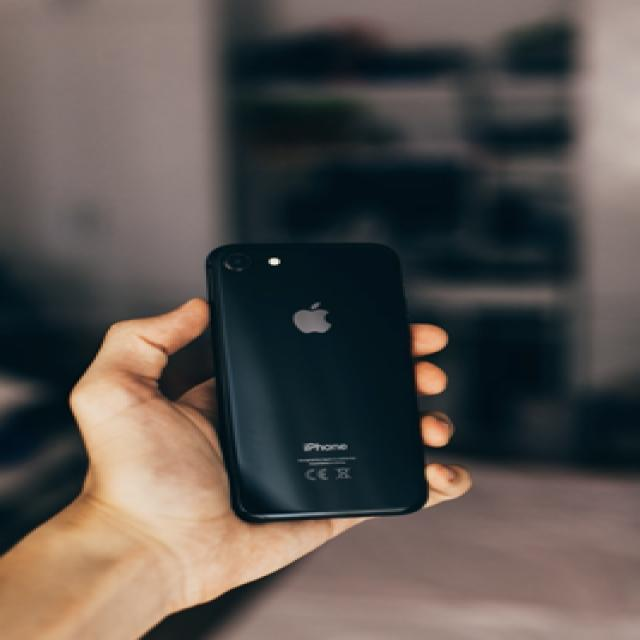cellphone: (204, 240, 429, 523)
